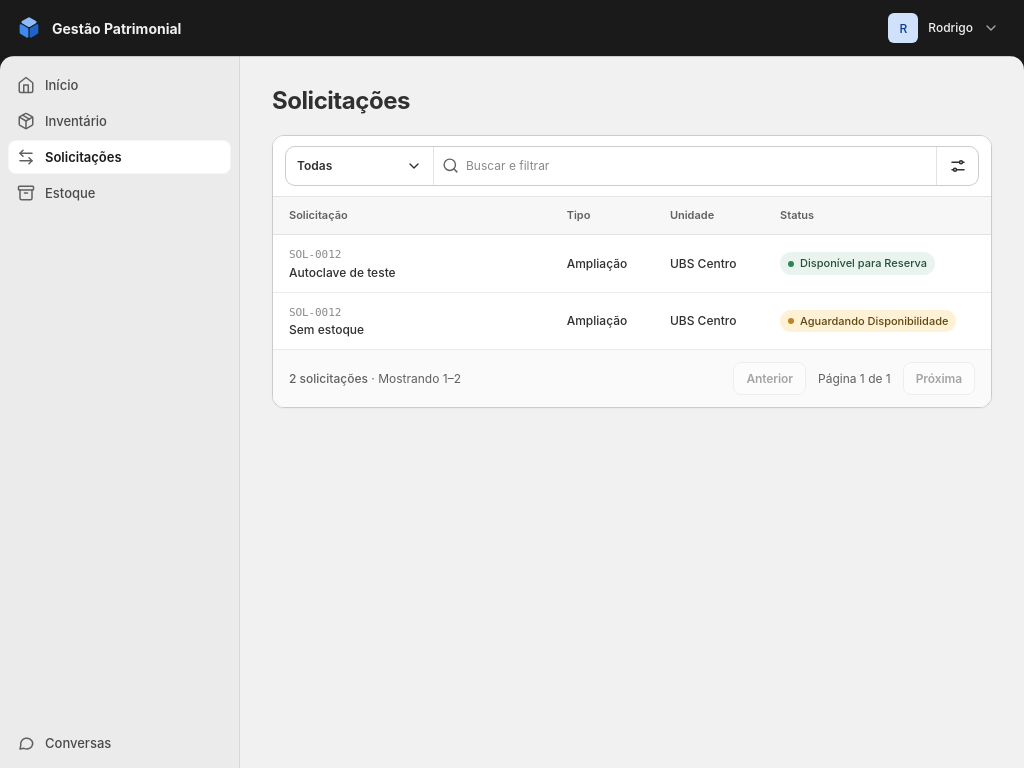
Scenario: filtra disponibilidade para reserva e preserva restrição de criação do galpão
Expected: the link "Sem estoque" is shown, [289,322,364,337]
Click the button named "Filtrar".
click(957, 166)  # box [936,147,978,185]
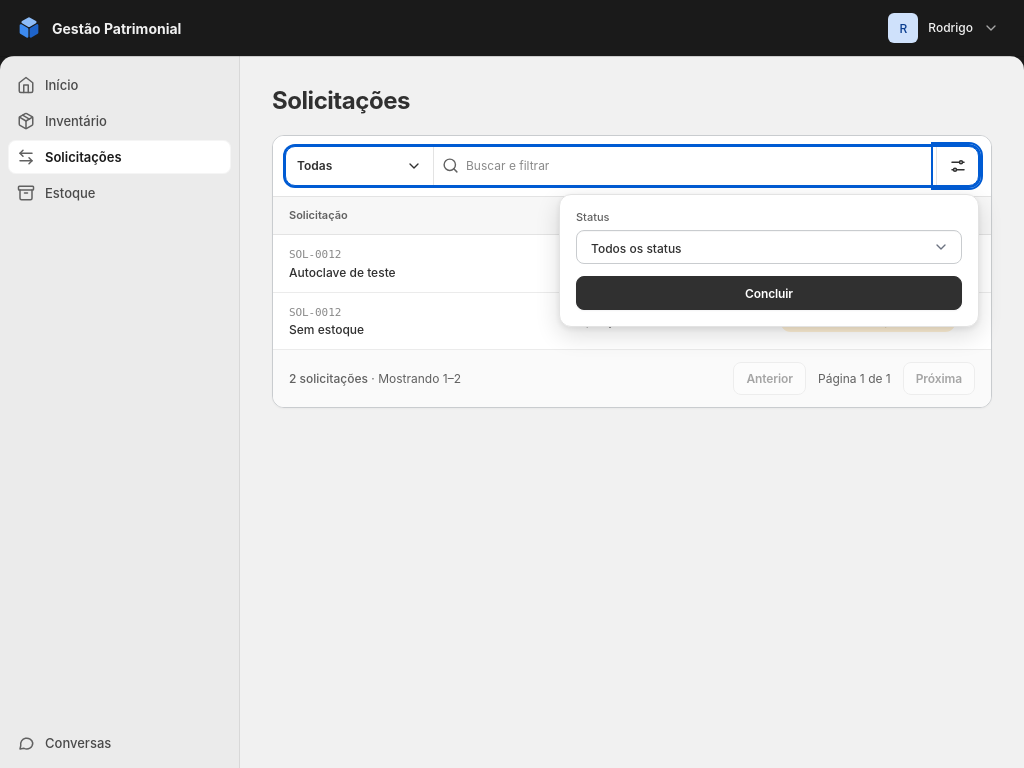
Select "Disponível para Reserva" in the dropdown named "Filtrar por status" at (769, 247), box [576,230,962,264]
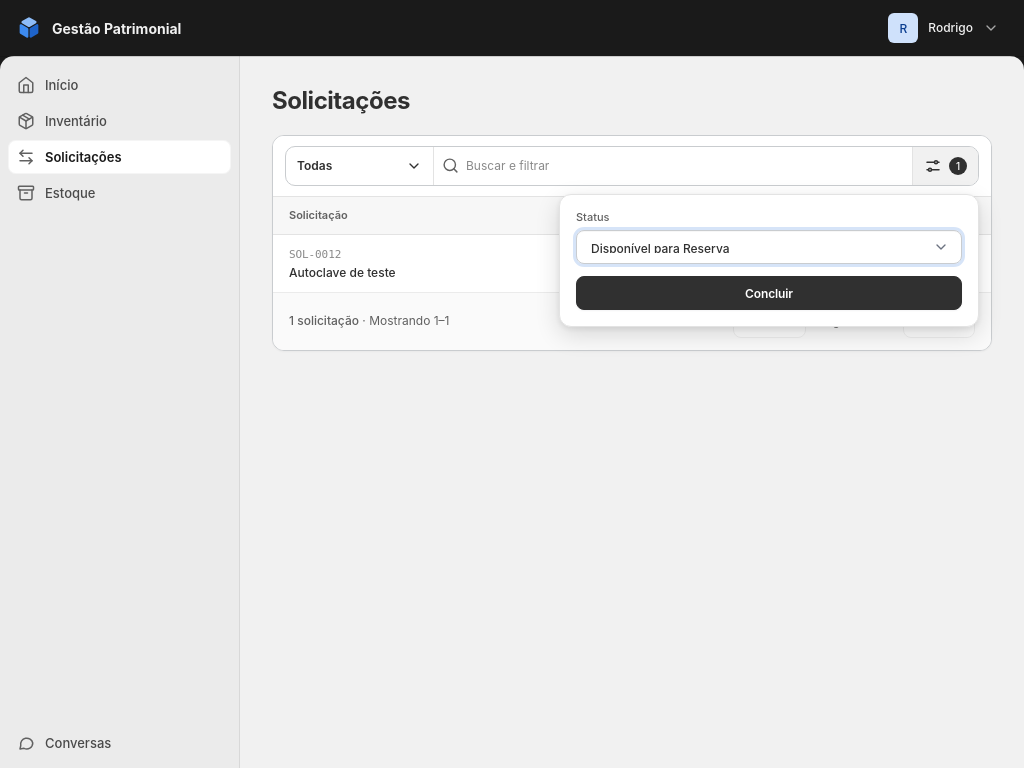
Expected: the link "Autoclave de teste" is shown, [289,265,396,280]
Now the link "Sem estoque" is gone
Select "Todos os status" in the dropdown named "Filtrar por status" at (769, 247), box [576,230,962,264]
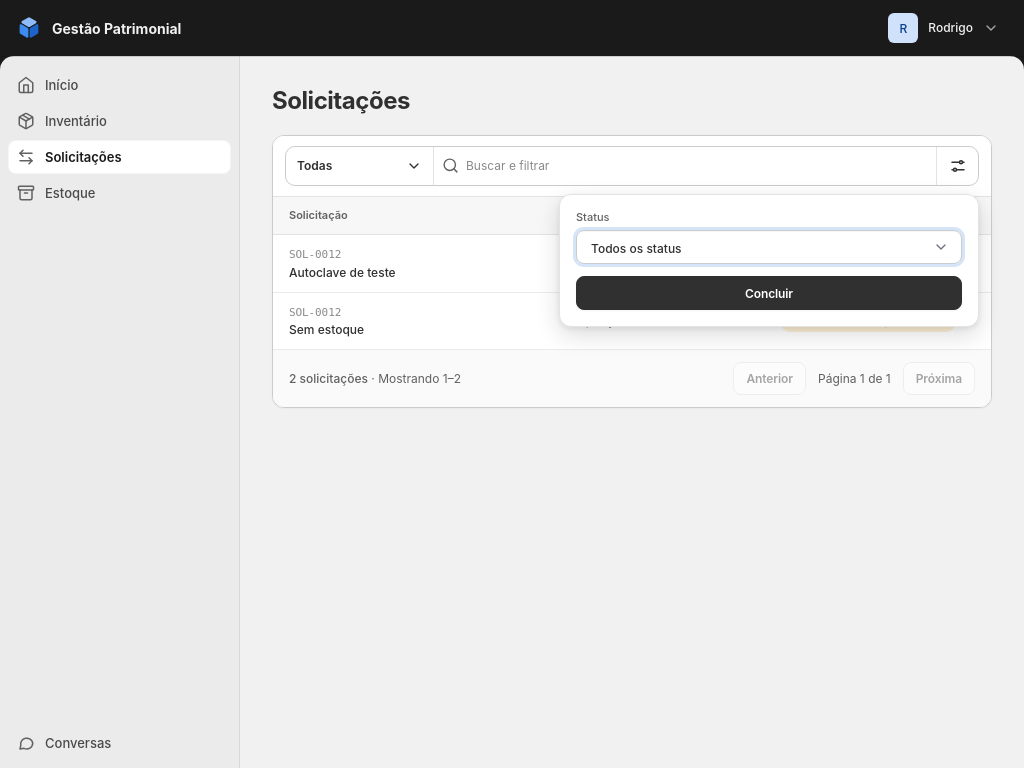
Now the link "Sem estoque" is shown, box [289,322,364,337]
